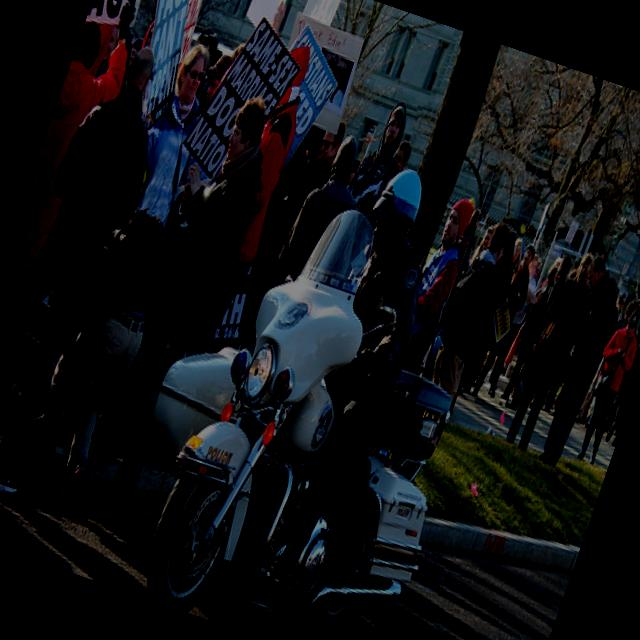Vehicle: (126, 172, 521, 640)
